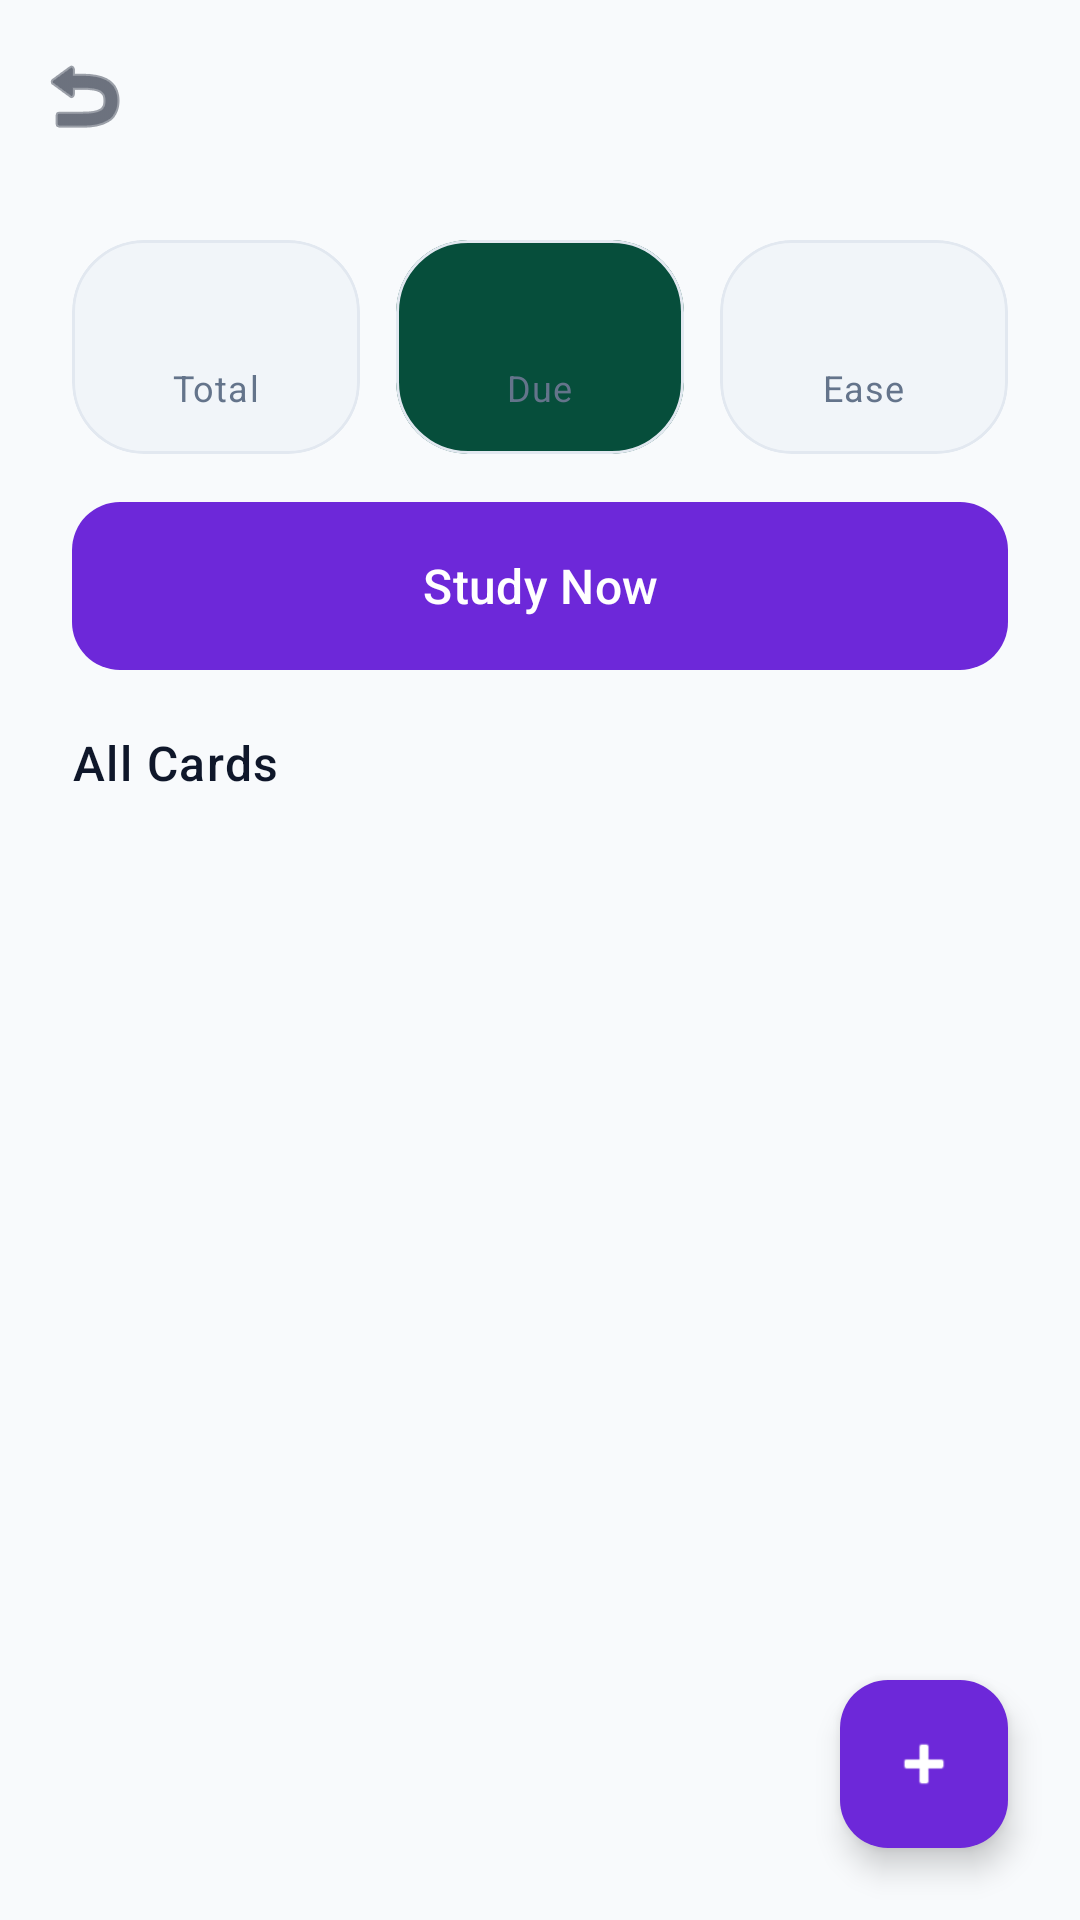

Where icons sit on this 1080*1920 app screen, as (x1,y1,x2,y2):
Add Card: (840,1680,1008,1848)
